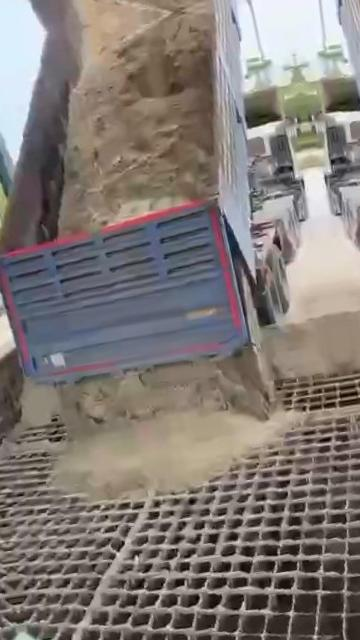sand: (22, 351, 290, 498), (57, 6, 222, 236), (267, 315, 343, 373)
